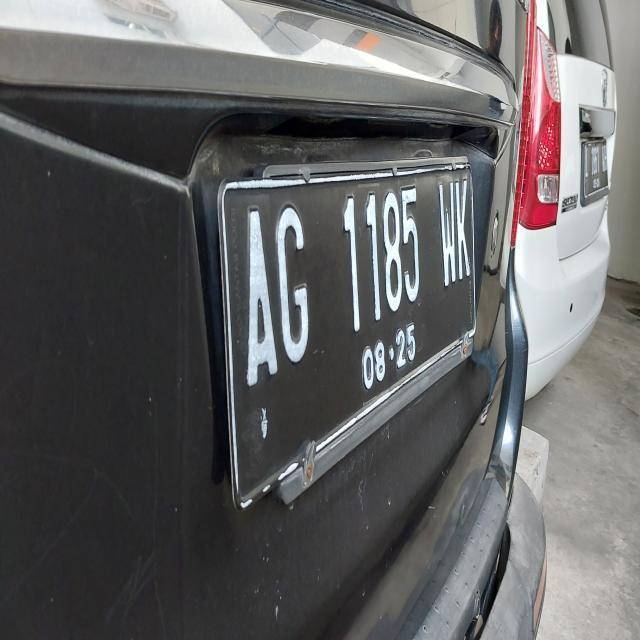1: (338, 190, 363, 350), (361, 188, 382, 329)
5: (402, 184, 420, 310)
8: (382, 186, 402, 318)
A: (236, 200, 280, 390)
G: (274, 198, 314, 364)
K: (456, 180, 470, 284)
W: (436, 182, 456, 290)
